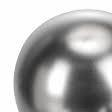ironball: (7, 5, 111, 111), (102, 99, 111, 111)
